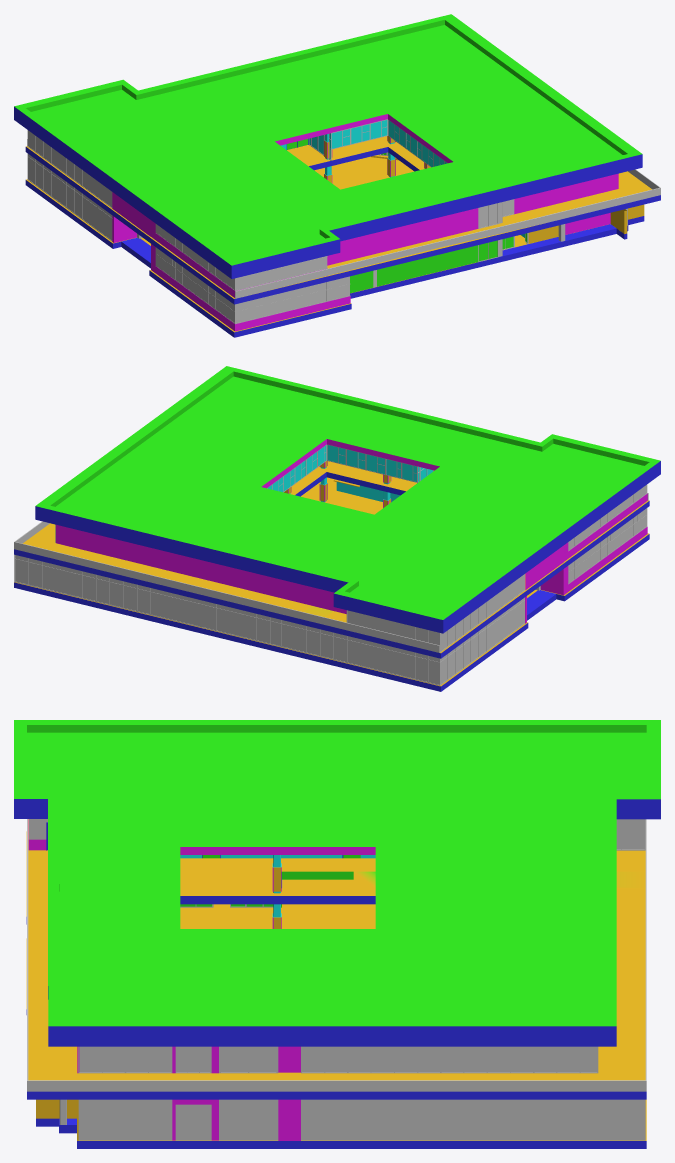
The model's file is buildingA.fbx.
3 views of the same model, one above another, from view 1: azimuth 30°, elevation 25°; view 2: azimuth 150°, elevation 25°; view 3: azimuth 270°, elevation 25° (orthographic). The views are drawn at different scales.
Parts seen in each view (by area): view 1: flagstone_rooftop, mirror_glass, outside_wall, flagstone_first_floor, flagstone_low_level, frameworkwindow, outside_riling, outside_big_doors, inside_window, center_columns; view 2: flagstone_rooftop, mirror_glass, flagstone_first_floor, outside_wall, flagstone_low_level, frameworkwindow, outside_riling, inside_window, inside_bathroom_walls; view 3: flagstone_rooftop, mirror_glass, flagstone_first_floor, flagstone_low_level, outside_riling, frameworkwindow, outside_wall, inside_walls.
Boxes of the visible parts, left/top/right/bottom form: flagstone_rooftop: left=14, top=14, right=642, bottom=278; mirror_glass: left=28, top=130, right=513, bottom=323; outside_wall: left=112, top=173, right=644, bottom=331; flagstone_first_floor: left=25, top=136, right=660, bottom=304; flagstone_low_level: left=25, top=156, right=644, bottom=337; frameworkwindow: left=27, top=119, right=528, bottom=323; outside_riling: left=27, top=139, right=660, bottom=298; outside_big_doors: left=350, top=213, right=610, bottom=293; inside_window: left=309, top=120, right=527, bottom=261; center_columns: left=324, top=134, right=430, bottom=183; flagstone_rooftop: left=35, top=366, right=660, bottom=633; mirror_glass: left=15, top=485, right=646, bottom=684; flagstone_first_floor: left=14, top=461, right=649, bottom=658; outside_wall: left=56, top=493, right=647, bottom=623; flagstone_low_level: left=14, top=477, right=649, bottom=691; frameworkwindow: left=14, top=444, right=647, bottom=685; outside_riling: left=14, top=493, right=648, bottom=652; inside_window: left=268, top=445, right=432, bottom=492; inside_bathroom_walls: left=336, top=482, right=400, bottom=501; flagstone_rooftop: left=14, top=720, right=660, bottom=1046; mirror_glass: left=29, top=819, right=644, bottom=1139; flagstone_first_floor: left=26, top=819, right=646, bottom=1099; flagstone_low_level: left=26, top=831, right=646, bottom=1148; outside_riling: left=27, top=819, right=646, bottom=1091; frameworkwindow: left=29, top=819, right=645, bottom=1140; outside_wall: left=28, top=819, right=300, bottom=1140; inside_walls: left=180, top=855, right=375, bottom=907.
Size of the model in its own units: 4996 by 848 by 4343.
